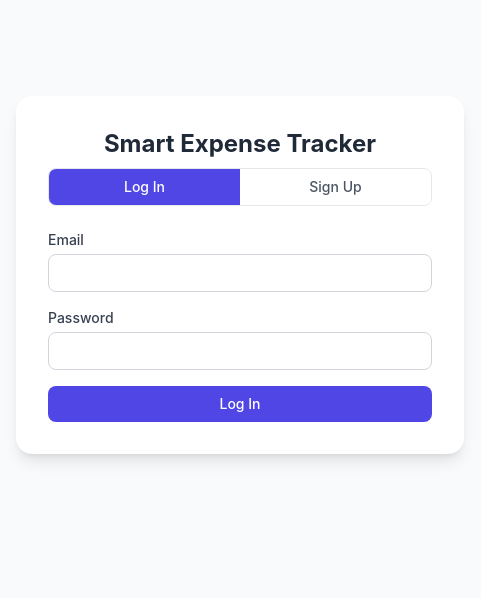
Test case: AuthPage — Register mode › shows validation errors for all empty fields on submit
The image size is (481, 598).
Click the button "Sign Up" at (336, 187), box [240,169,431,205]
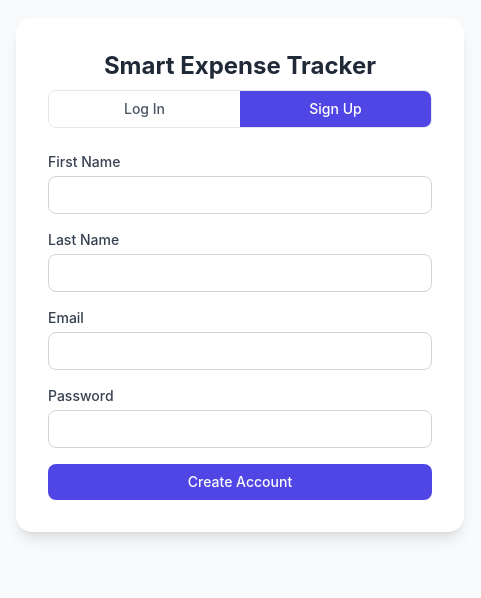
Click the button "Create Account" at (240, 482), box [48,464,432,500]
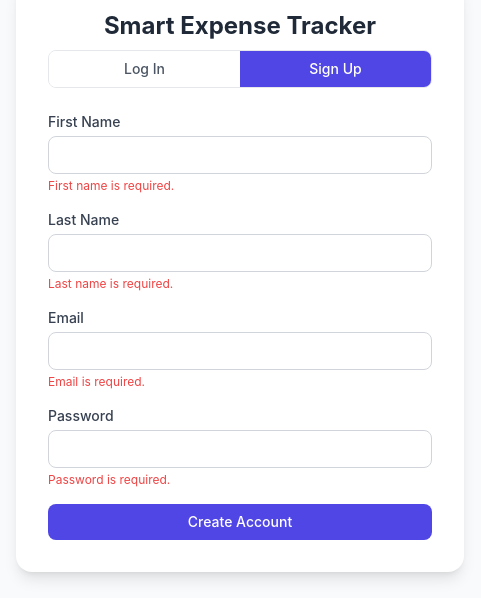
Result: the text "First name is required." is shown at [48,178,174,193]
Result: the text "Last name is required." is shown at [48,276,173,291]
Result: the text "Email is required." is shown at [48,374,145,389]
